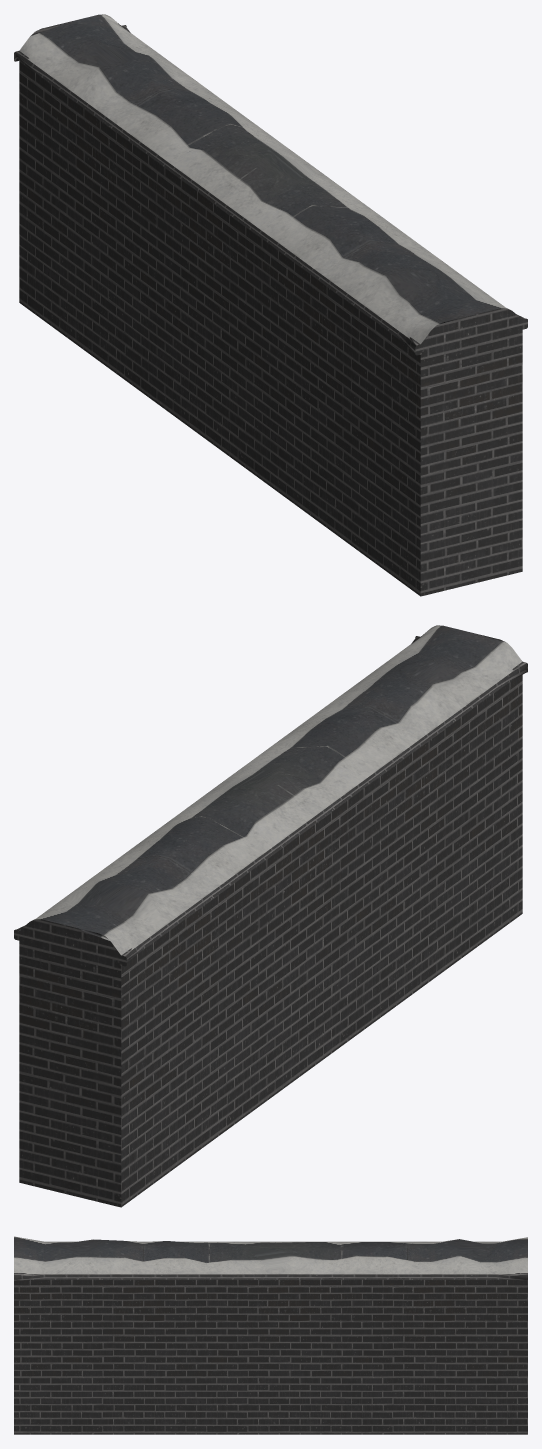
Rendered from SM_GH_Parapet_005.fbx.
The picture shows the model from 3 angles, top to bottom: view 1: azimuth 30°, elevation 25°; view 2: azimuth 150°, elevation 25°; view 3: azimuth 270°, elevation 25°; orthographic projection. The views are drawn at different scales.
Visible parts, largest first — view 1: SM_GH_Parapet_005; view 2: SM_GH_Parapet_005; view 3: SM_GH_Parapet_005.
Part boxes in pixels (box(x1,y1,x2,y2)): SM_GH_Parapet_005: box(14, 14, 527, 596); SM_GH_Parapet_005: box(14, 625, 527, 1207); SM_GH_Parapet_005: box(14, 1236, 527, 1434).
Size of the model in its own units: 97.5 by 602 by 222.
Materials: 2 (2 with a texture image).
